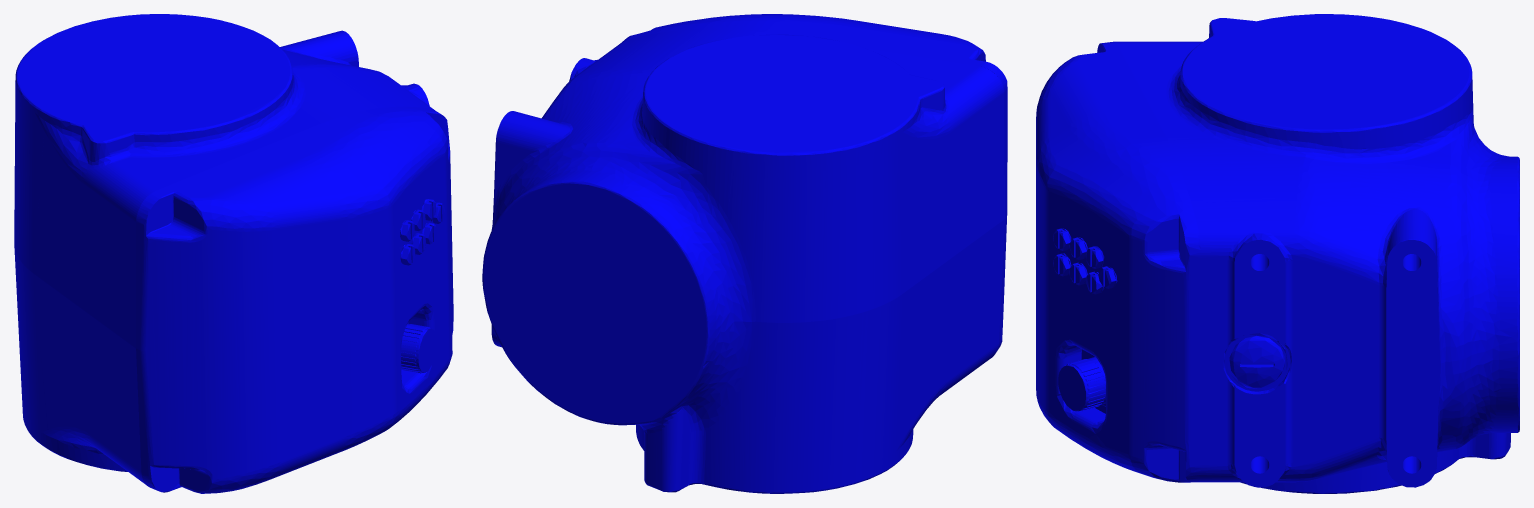
Rendered from yaskawa_link_3_u_visual_vis_1.dae.
The picture shows the model from 3 angles, left to right: view 1: azimuth 30°, elevation 25°; view 2: azimuth 150°, elevation 25°; view 3: azimuth 270°, elevation 25°; orthographic projection. The views are drawn at different scales.
Visible parts, largest first — view 1: node; view 2: node; view 3: node.
Boxes of the visible parts, <box> form: node: <box>14,14,453,493</box>; node: <box>482,14,1007,493</box>; node: <box>1036,14,1519,493</box>.
Bounding box in the file's own units: 0.1578 × 0.1463 × 0.175.
